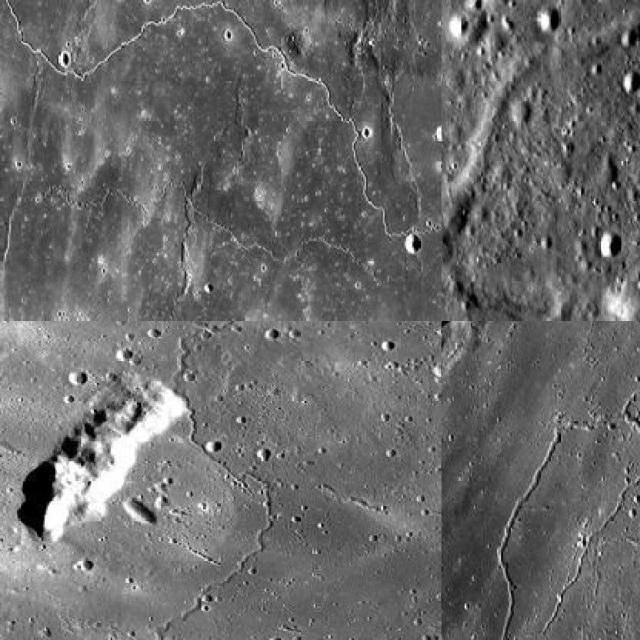rille: (0, 0, 440, 242), (0, 177, 440, 318), (83, 320, 275, 638), (442, 0, 638, 305), (442, 430, 638, 638), (496, 412, 612, 638)
